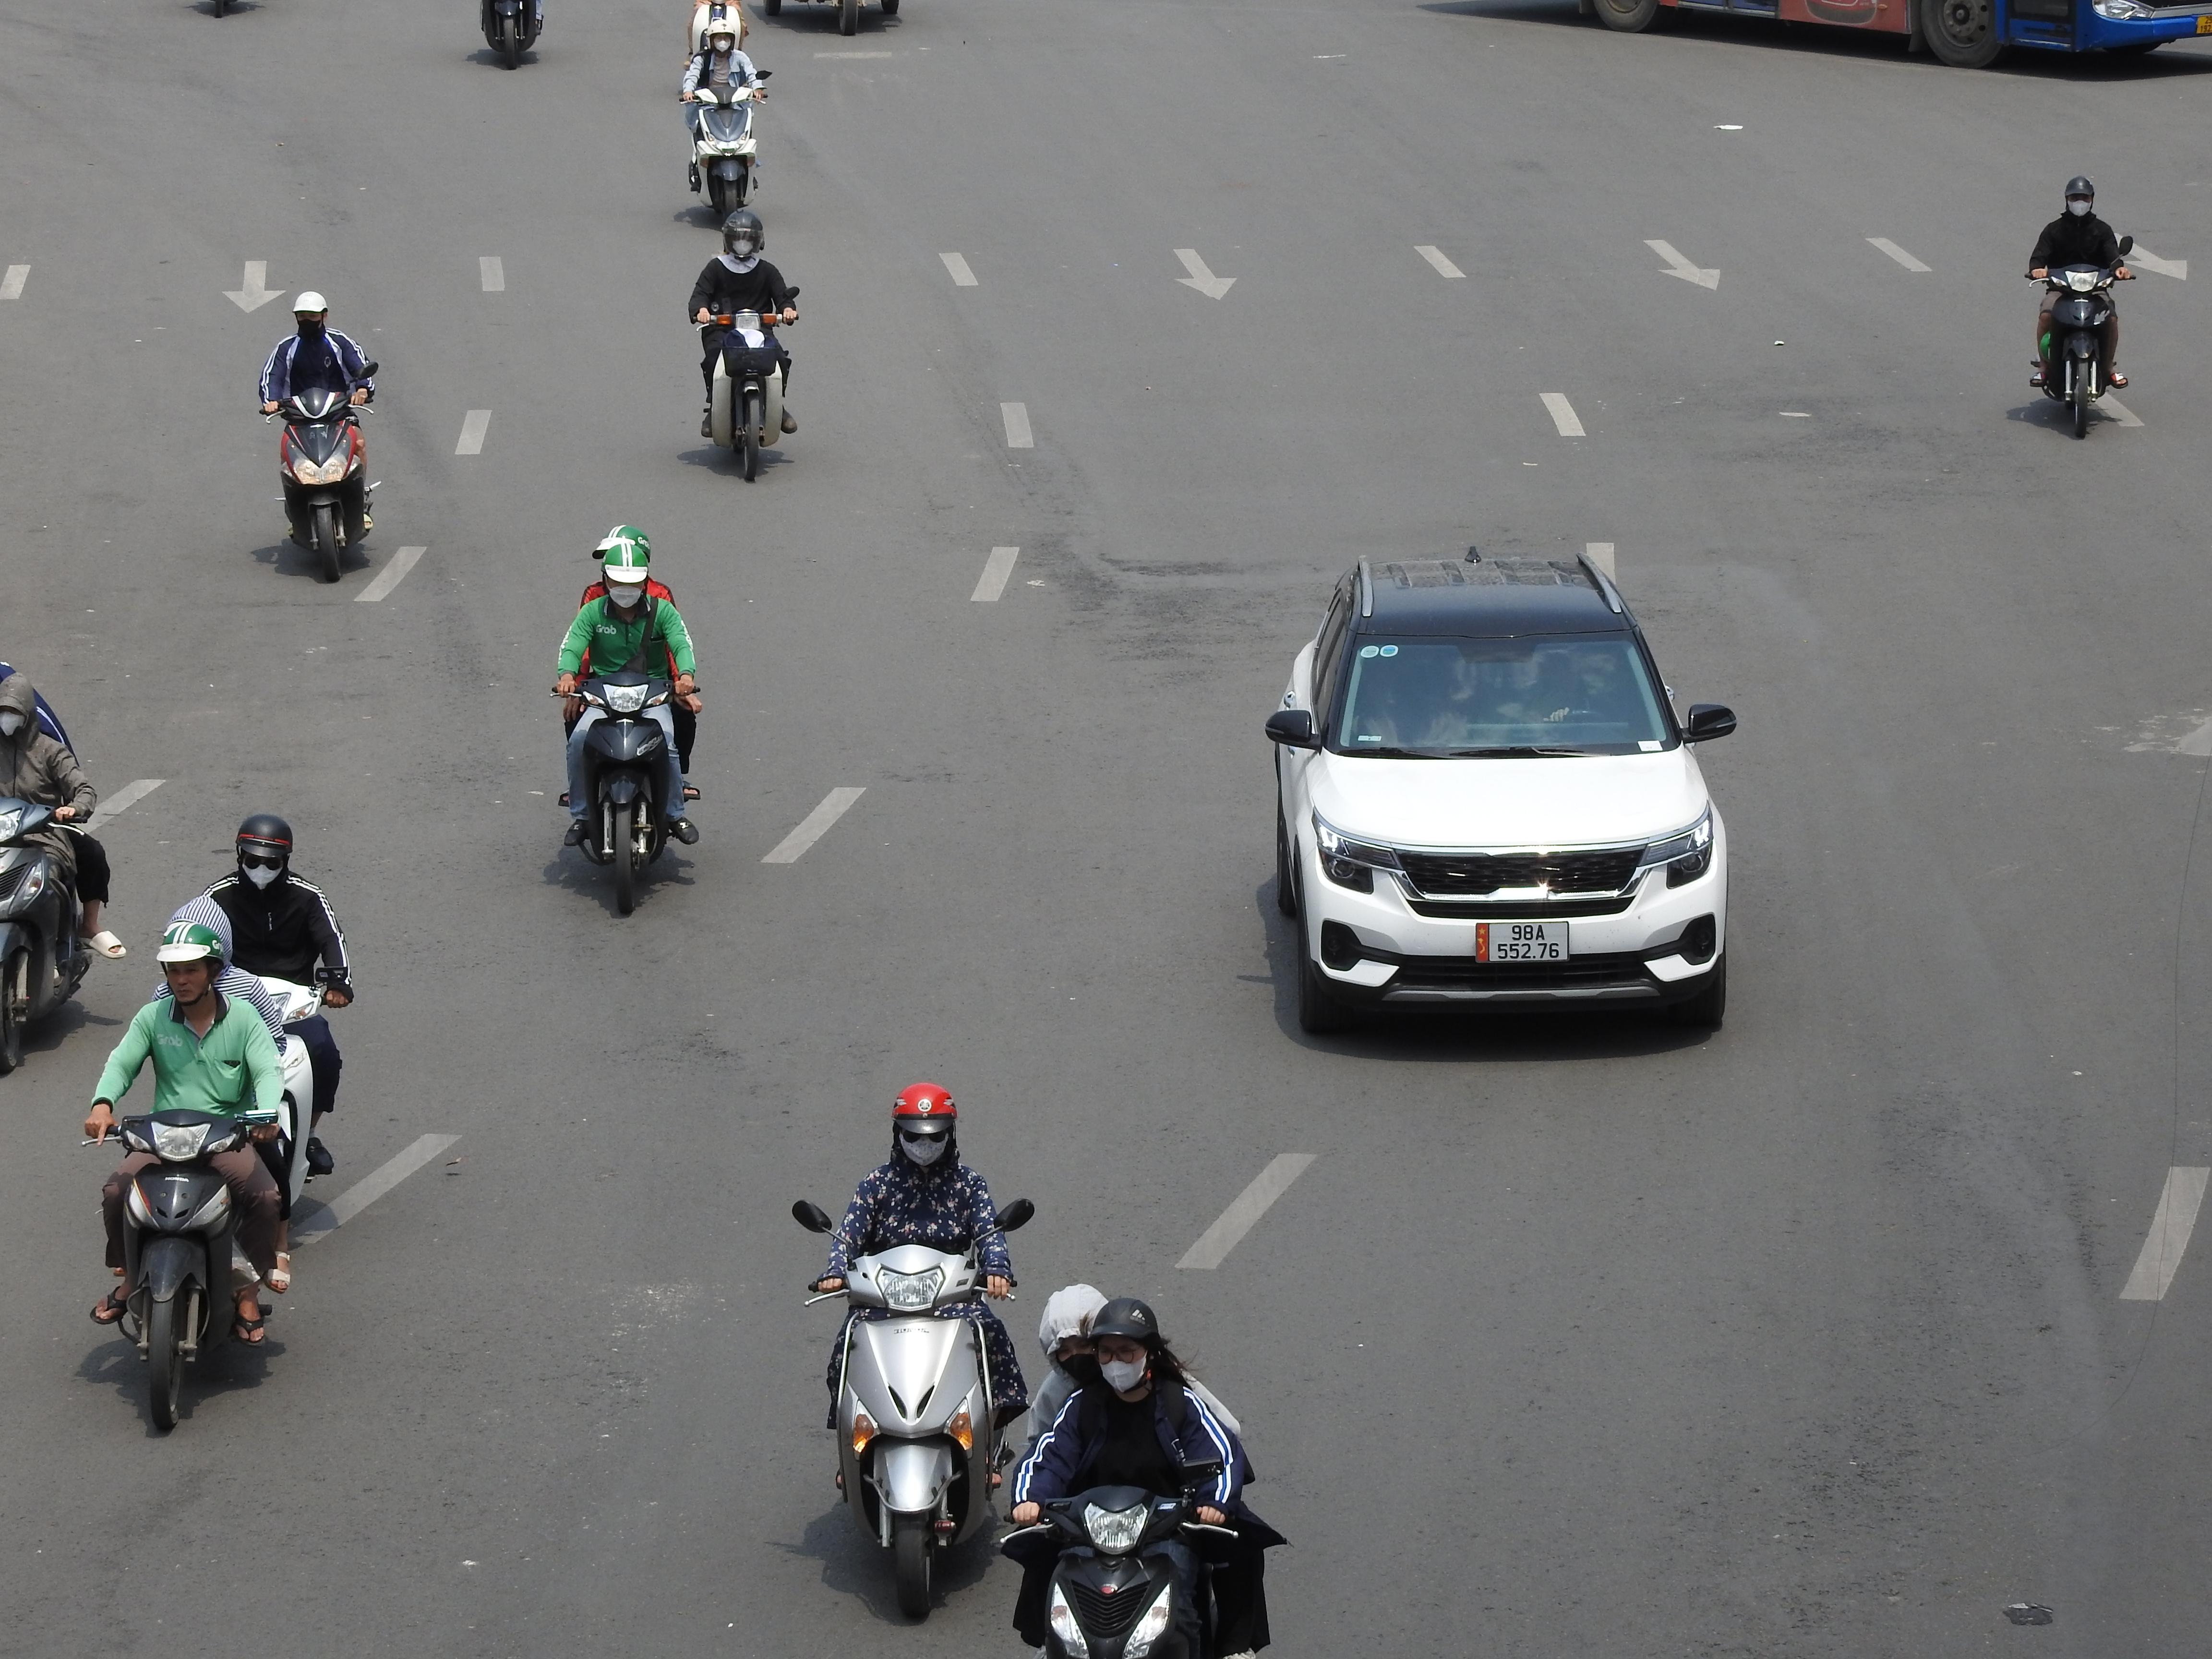BSV: (1486, 922, 1566, 962)
car: (1261, 545, 1738, 1039)
motorbike: (794, 1080, 1035, 1622), (85, 906, 300, 1438), (1003, 1283, 1285, 1659), (200, 812, 352, 1220), (554, 525, 702, 920), (0, 659, 117, 1079), (261, 288, 378, 584), (2026, 173, 2135, 439), (691, 209, 798, 483), (681, 12, 768, 223)
